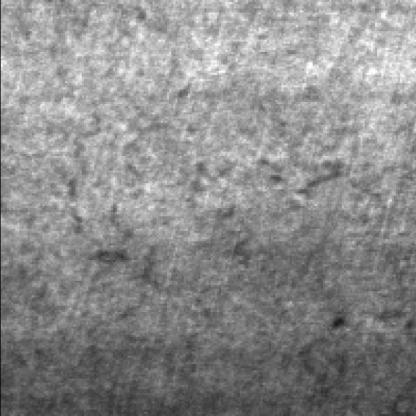crazing: (61, 56, 196, 370), (212, 152, 343, 410)
